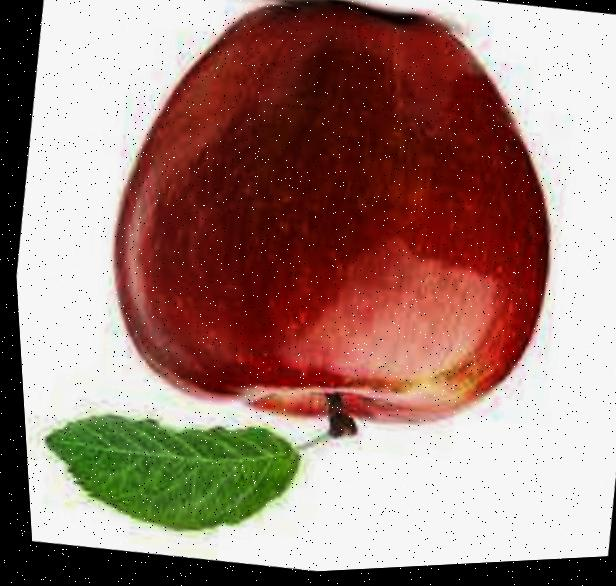HEALTHY: (46, 0, 616, 507)
